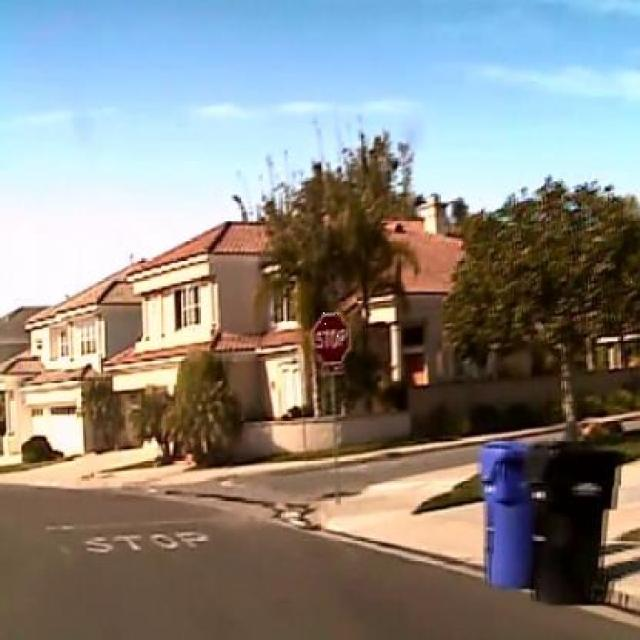stop: (311, 312, 351, 365)
